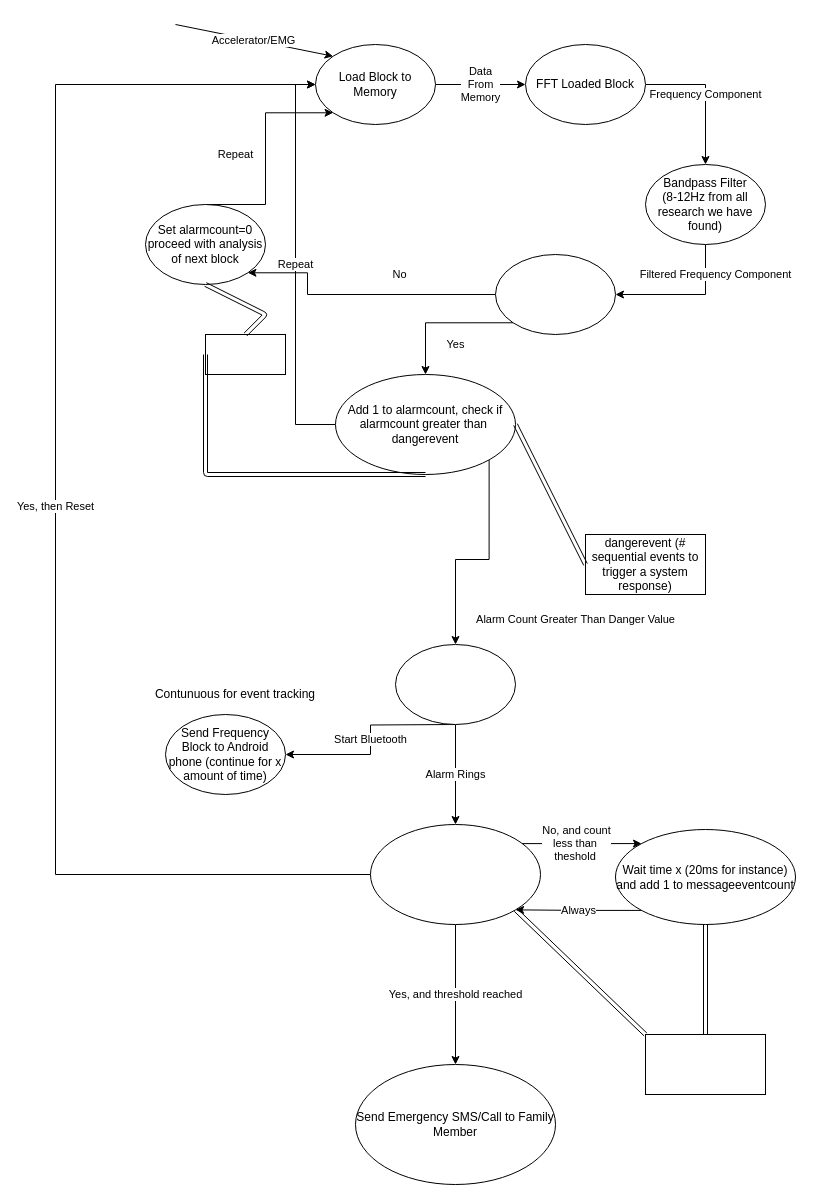
Some shapes in this 813 by 1202 pixel diagram are drawn without their labels. The shapes that lost their labels are listed below. From the top down, each one's centre as x and y in pixels, then its label:
the point at 555,294: Check if any frequency amplitude above set trigger value
the point at 245,354: alarmcount
the point at 455,684: Start Local Alarm
the point at 455,874: Check if Guarded Switch has been flipped before messageeventcount reached
the point at 705,1064: messageeventcount
